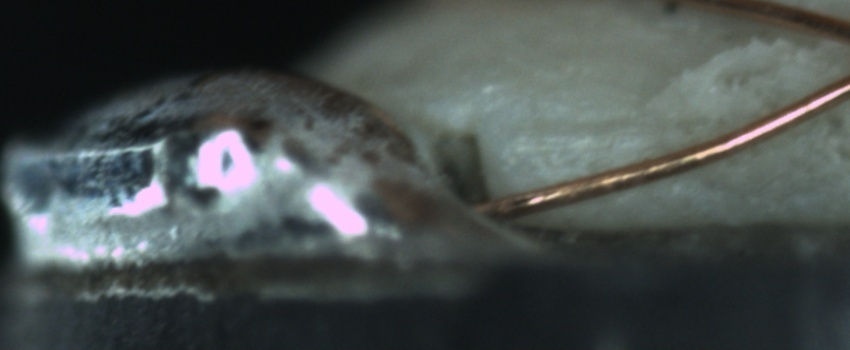DL: (517, 97, 679, 161)
